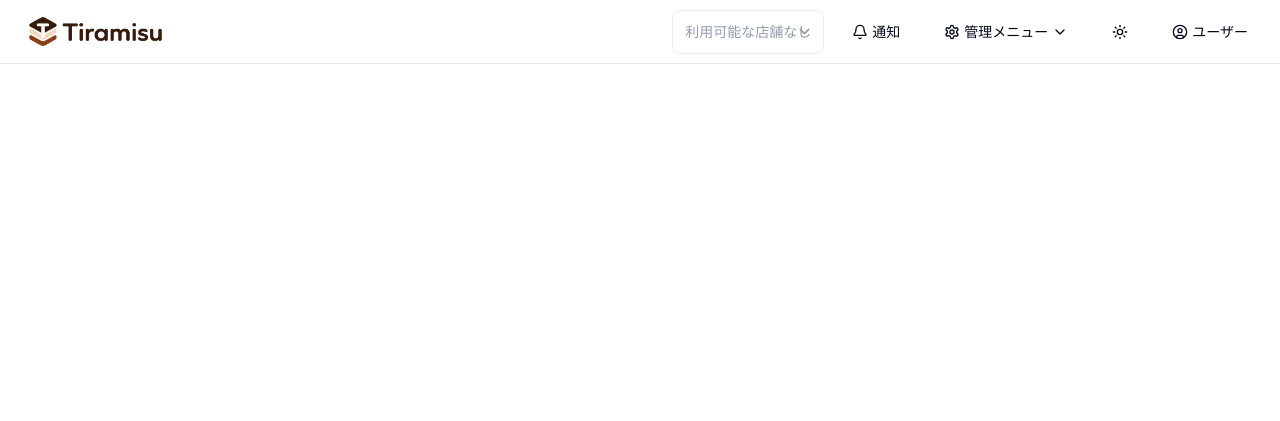
Test: Admin navigation alignment › Header の管理メニューから非MVP/廃止導線を除外する
What coordinates should you click on to do the following:
click the button "管理メニュー"
I would click on:
 (1006, 32)
Its box is [928, 10, 1084, 54].
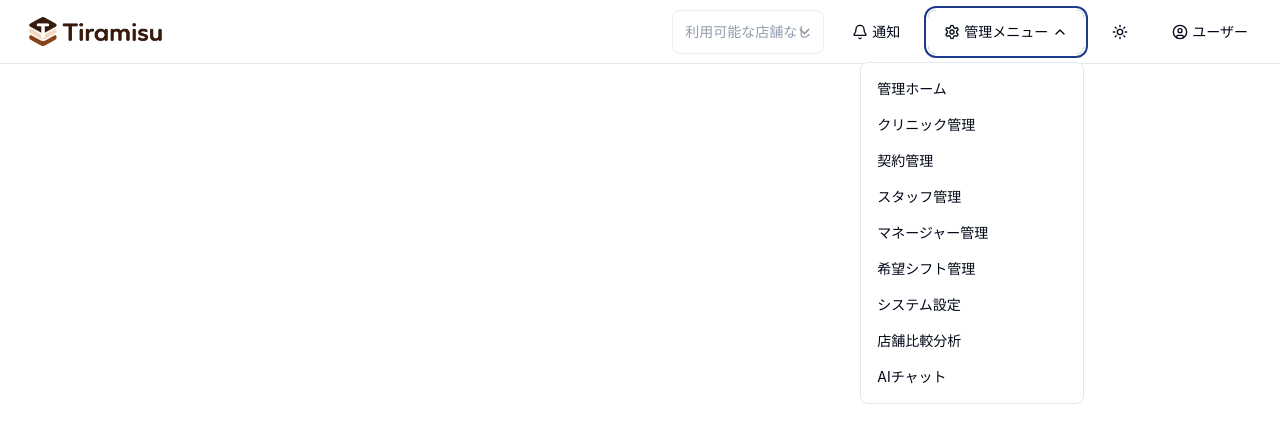
Result: the link "管理ホーム" is shown at [877, 80, 947, 96]
Result: the link "クリニック管理" is shown at [877, 116, 975, 132]
Result: the link "スタッフ管理" is shown at [877, 188, 961, 204]
